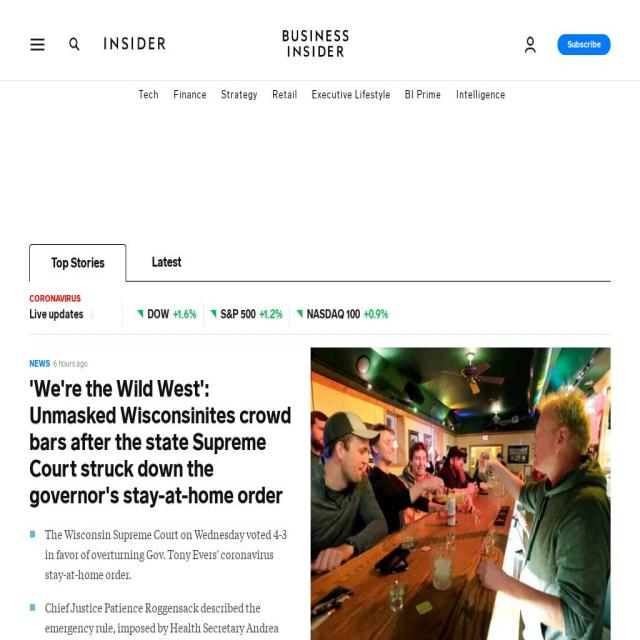button: (310, 347, 610, 640), (282, 29, 358, 58), (29, 303, 108, 326), (296, 306, 389, 322), (311, 85, 391, 103), (210, 306, 283, 322), (558, 33, 610, 55), (137, 306, 197, 322), (456, 85, 506, 103), (104, 37, 166, 50), (221, 85, 258, 103), (405, 85, 442, 103), (173, 85, 207, 103), (272, 85, 297, 103), (519, 36, 542, 52), (139, 85, 159, 103), (70, 37, 80, 51)
heading: (30, 375, 292, 509), (29, 294, 604, 304), (307, 306, 360, 322), (29, 308, 83, 322), (220, 306, 256, 322), (173, 306, 197, 322), (259, 306, 283, 322), (364, 306, 388, 322), (148, 306, 170, 322), (89, 311, 95, 318)
image: (308, 346, 612, 640), (283, 29, 348, 58), (104, 37, 166, 50), (30, 37, 44, 51), (525, 36, 536, 52), (70, 37, 80, 51)
link: (50, 255, 104, 271), (29, 358, 52, 369)
text: (0, 104, 640, 211), (43, 523, 292, 597), (43, 596, 292, 640), (151, 254, 183, 270), (53, 358, 87, 369)
